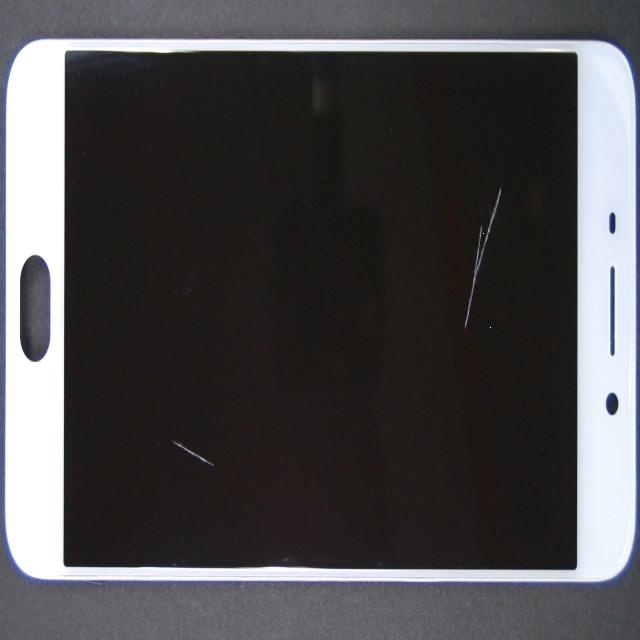scratch: (237, 82, 640, 435), (51, 212, 256, 640)
